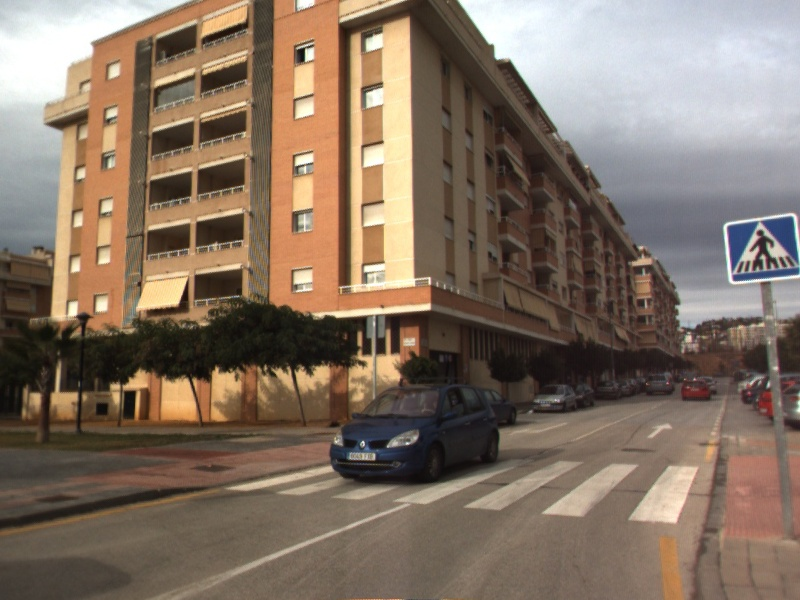STRAIGHT: (645, 420, 674, 440)
